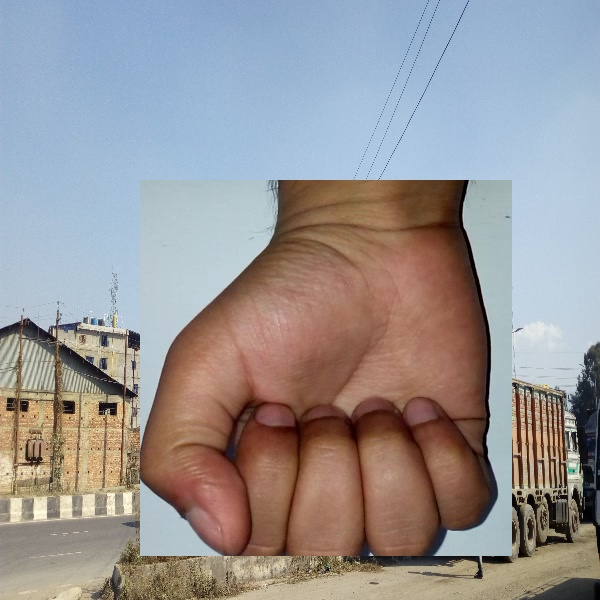A: (140, 180, 512, 556)
